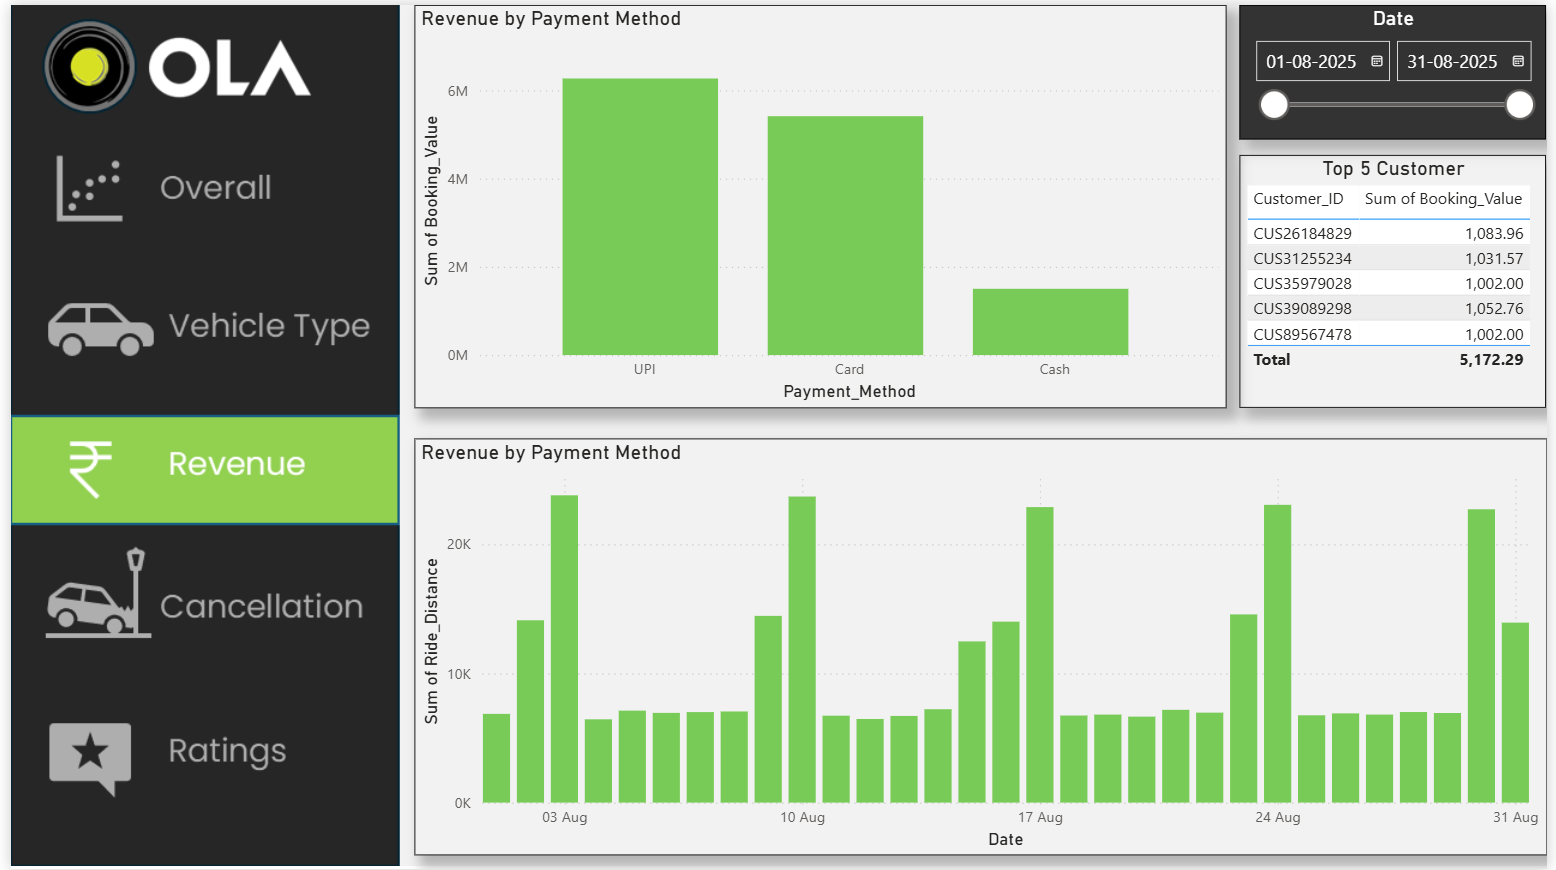

Layout of this report page (visuals, bound fields, positions):
{"tool":"powerbi","page":{"name":"Revenue","canvas":[1280,720],"ordinal":2},"visuals":[{"type":"actionButton","box":[0,224,320,96],"z":0},{"type":"actionButton","box":[0,336,320,96],"z":1000},{"type":"actionButton","box":[0,448,320,96],"z":2000},{"type":"actionButton","box":[0,576,320,96],"z":3000},{"type":"actionButton","box":[0,96,320,96],"z":4000},{"type":"columnChart","title":"Revenue by Payment Method","fields":{"Y":["Sum(BookingData.Booking_Value)"],"Category":["BookingData.Payment_Method"]},"box":[335.7,0,676.5,335.7],"z":5000},{"type":"columnChart","title":"Revenue by Payment Method","fields":{"Y":["Sum(BookingData.Ride_Distance)"],"Category":["BookingData.Date"]},"box":[335.7,360.8,943.7,347.4],"z":6000},{"type":"slicer","title":"Date","fields":{"Values":["BookingData.Date"]},"box":[1023.9,0,255.6,111.9],"z":7000},{"type":"tableEx","title":"Top 5 Customer","fields":{"Values":["BookingData.Customer_ID","Sum(BookingData.Booking_Value)"]},"box":[1023.9,125.3,255.6,210.5],"z":8000}]}

Visuals, with their boxes in screenshot pixels (x1, y1, x2, y2), scaled from the page's 1280x720 canvas onto the 1556x870 screenshot:
actionButton: {"x1": 0, "y1": 271, "x2": 389, "y2": 387}
actionButton: {"x1": 0, "y1": 406, "x2": 389, "y2": 522}
actionButton: {"x1": 0, "y1": 541, "x2": 389, "y2": 657}
actionButton: {"x1": 0, "y1": 696, "x2": 389, "y2": 812}
actionButton: {"x1": 0, "y1": 116, "x2": 389, "y2": 232}
"Revenue by Payment Method" columnChart: {"x1": 408, "y1": 0, "x2": 1230, "y2": 406}
"Revenue by Payment Method" columnChart: {"x1": 408, "y1": 436, "x2": 1555, "y2": 856}
"Date" slicer: {"x1": 1245, "y1": 0, "x2": 1555, "y2": 135}
"Top 5 Customer" tableEx: {"x1": 1245, "y1": 151, "x2": 1555, "y2": 406}
